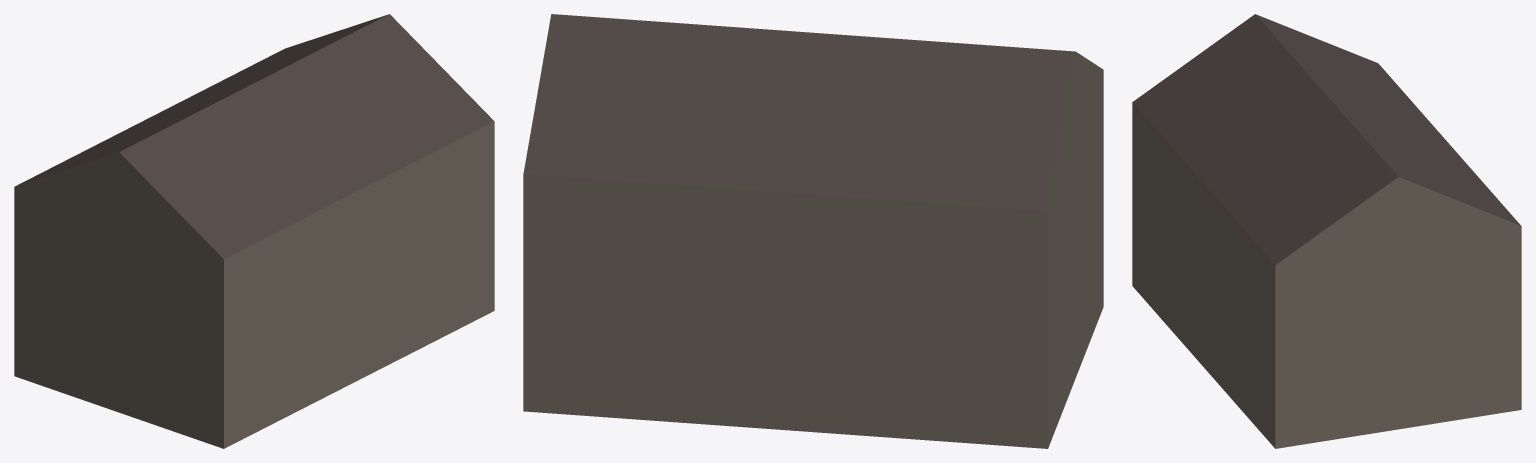
3 renders of one model, left to right at view 1: azimuth 30°, elevation 25°; view 2: azimuth 150°, elevation 25°; view 3: azimuth 270°, elevation 25°, orthographic. The views are drawn at different scales.
Parts seen in each view (by area): view 1: HP-w859086187; view 2: HP-w859086187; view 3: HP-w859086187.
Boxes of the visible parts, x1=… form: HP-w859086187: x1=14, y1=14, x2=494, y2=448; HP-w859086187: x1=523, y1=14, x2=1103, y2=448; HP-w859086187: x1=1132, y1=14, x2=1521, y2=448.
Bounding box in the file's own units: 21.23 × 12.37 × 17.29.
